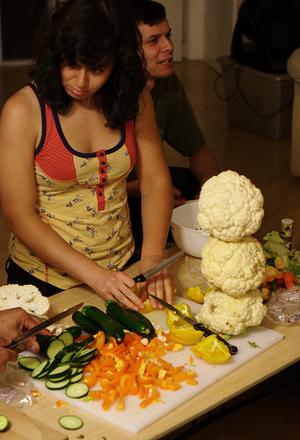person: (1, 1, 175, 311)
